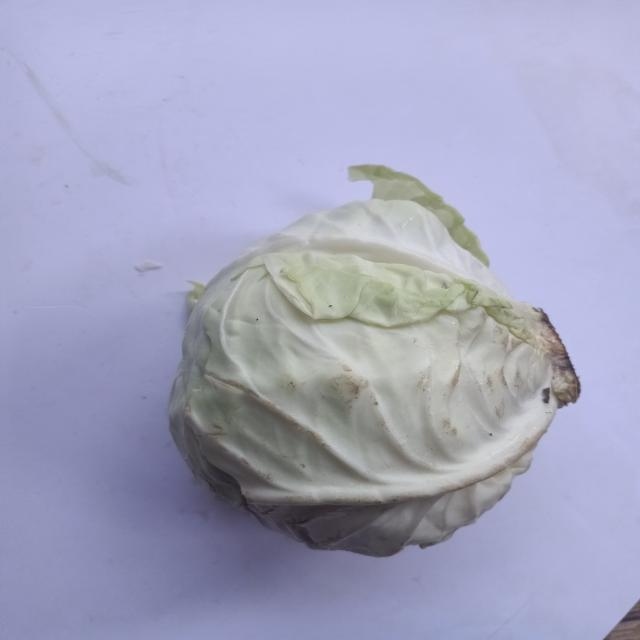Cabbage: (145, 154, 588, 566)
